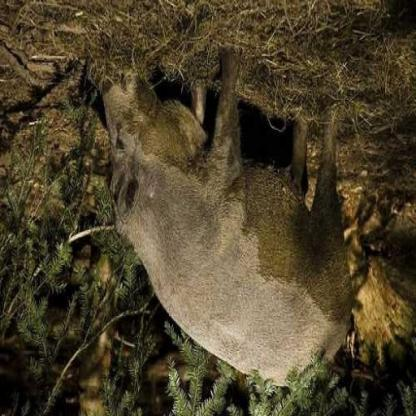boar: (70, 44, 361, 401)
